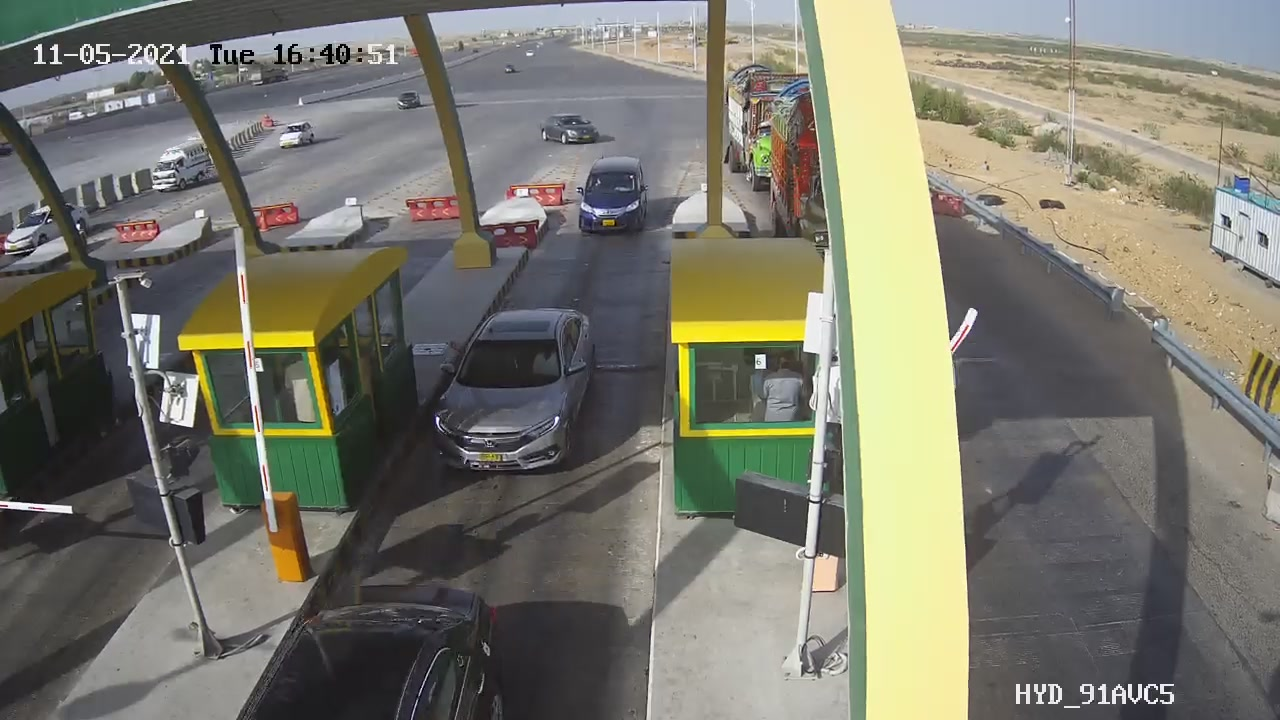F1: (414, 294, 616, 485), (566, 147, 658, 246)
